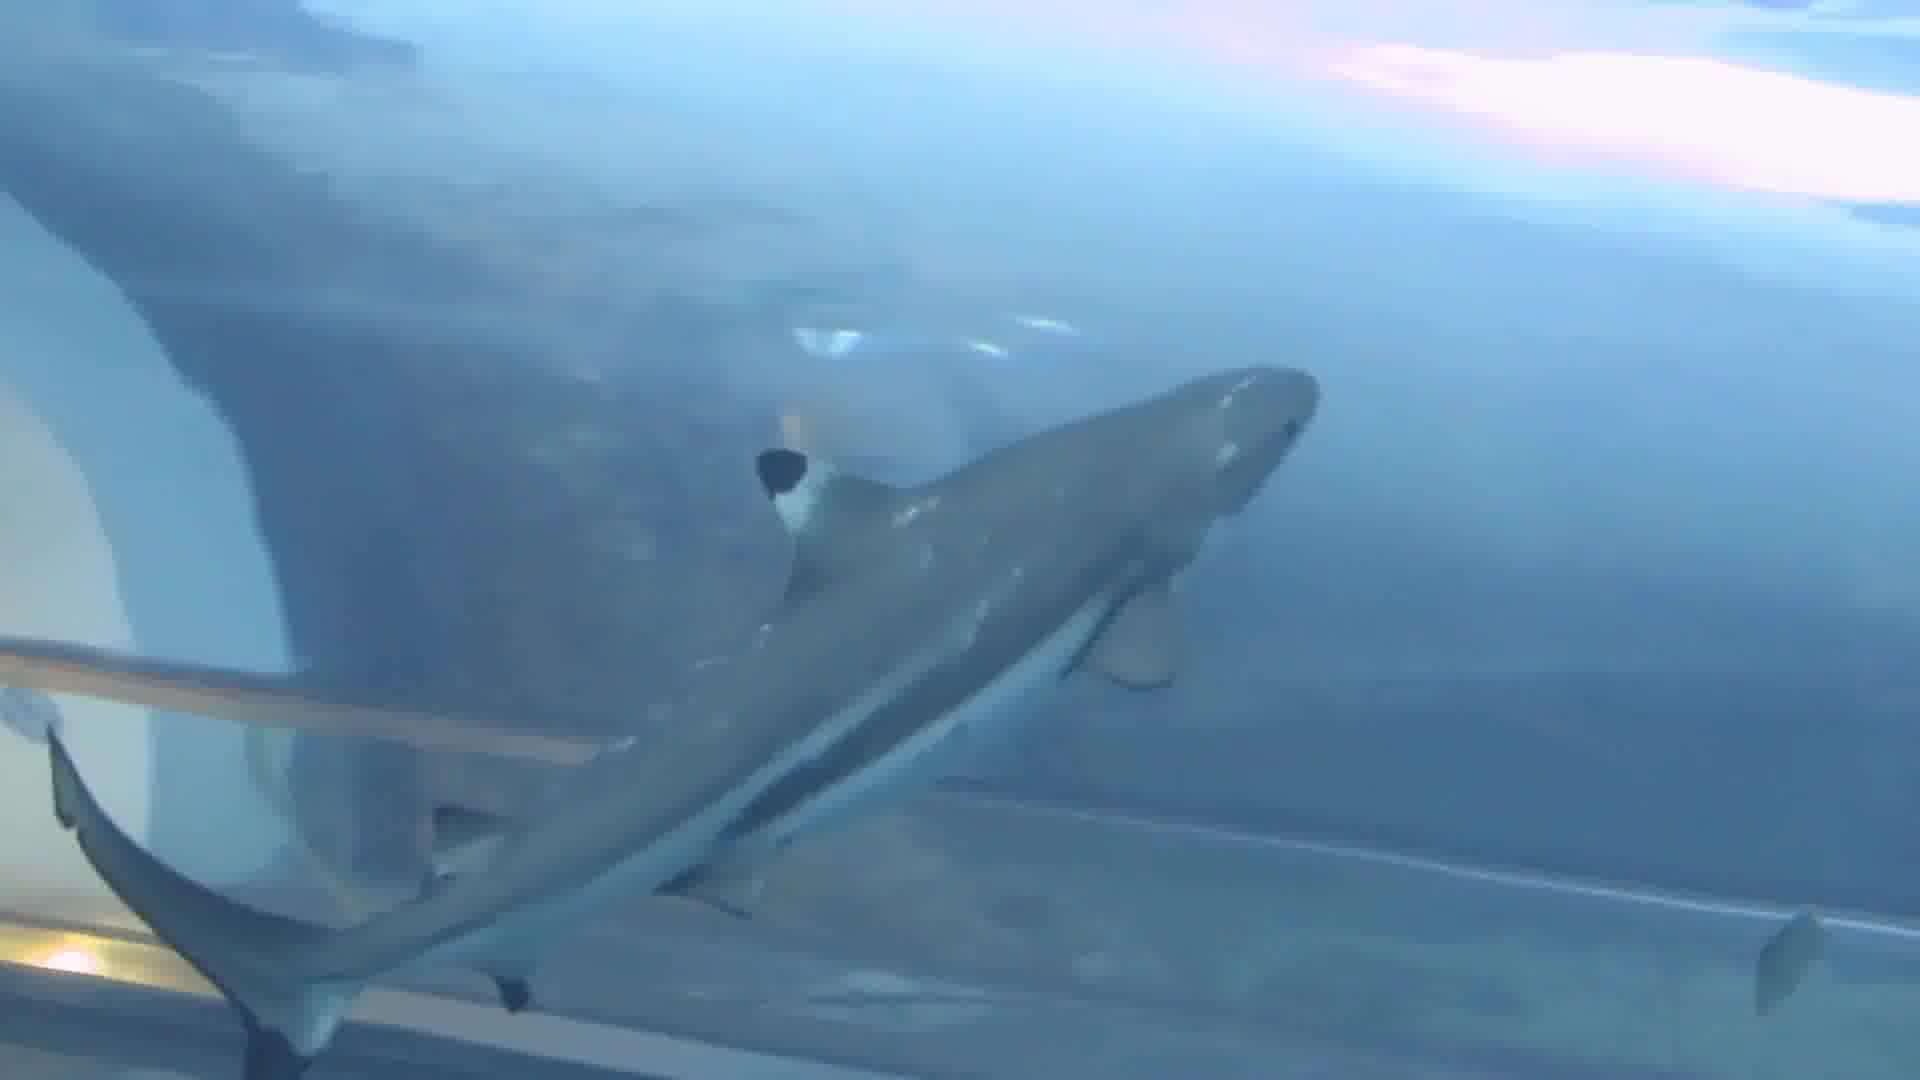Carcharhinus melanopterus: (1, 363, 1331, 1036)
